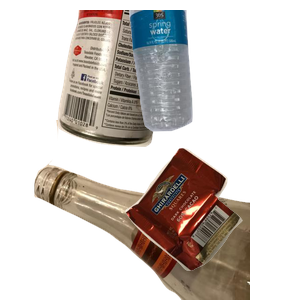glass: (31, 120, 271, 300)
metal: (55, 10, 227, 149)
plastic: (127, 10, 300, 134)
trash: (123, 145, 300, 300)
